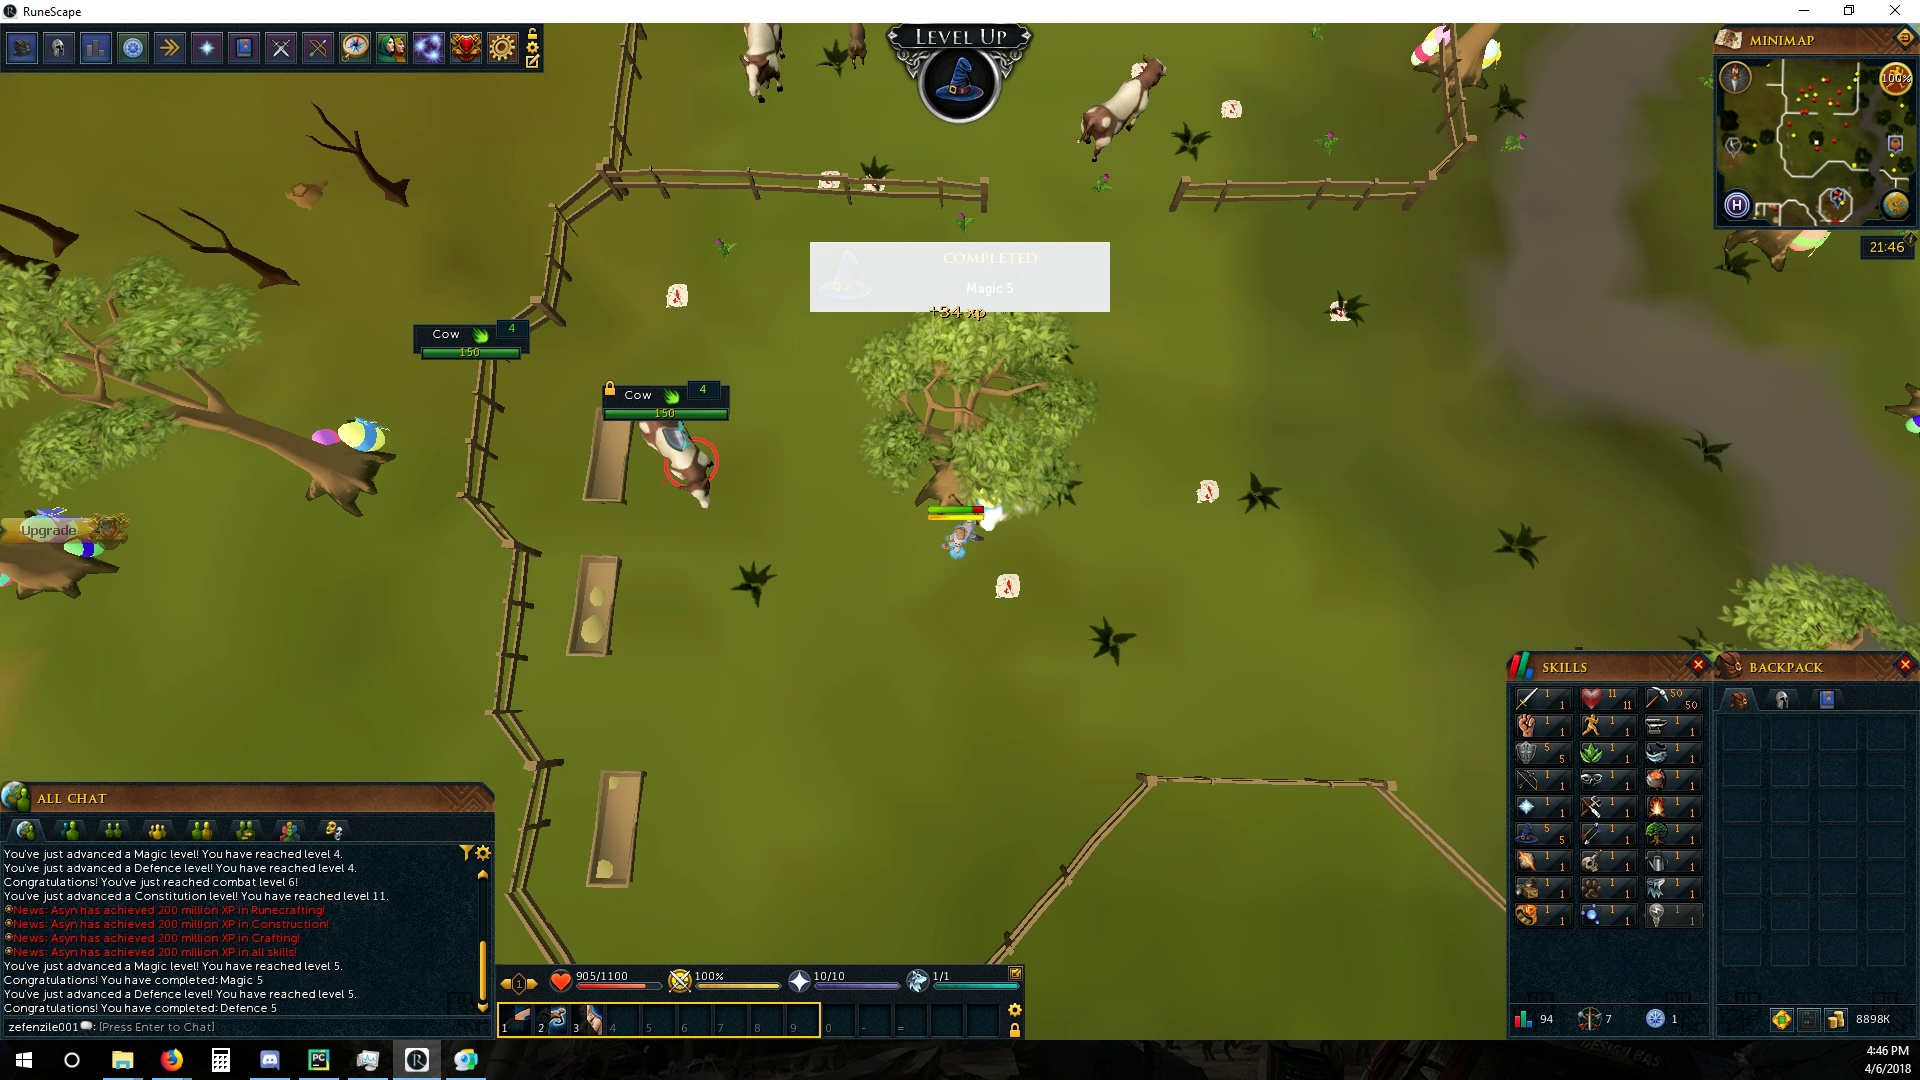calf: (843, 24, 869, 71)
cow: (1065, 51, 1174, 166), (632, 421, 723, 516), (729, 22, 793, 111)
cow_drop: (1327, 295, 1354, 334), (992, 571, 1025, 603), (661, 280, 691, 309), (1189, 476, 1218, 506), (1216, 92, 1244, 121), (812, 166, 847, 189)
